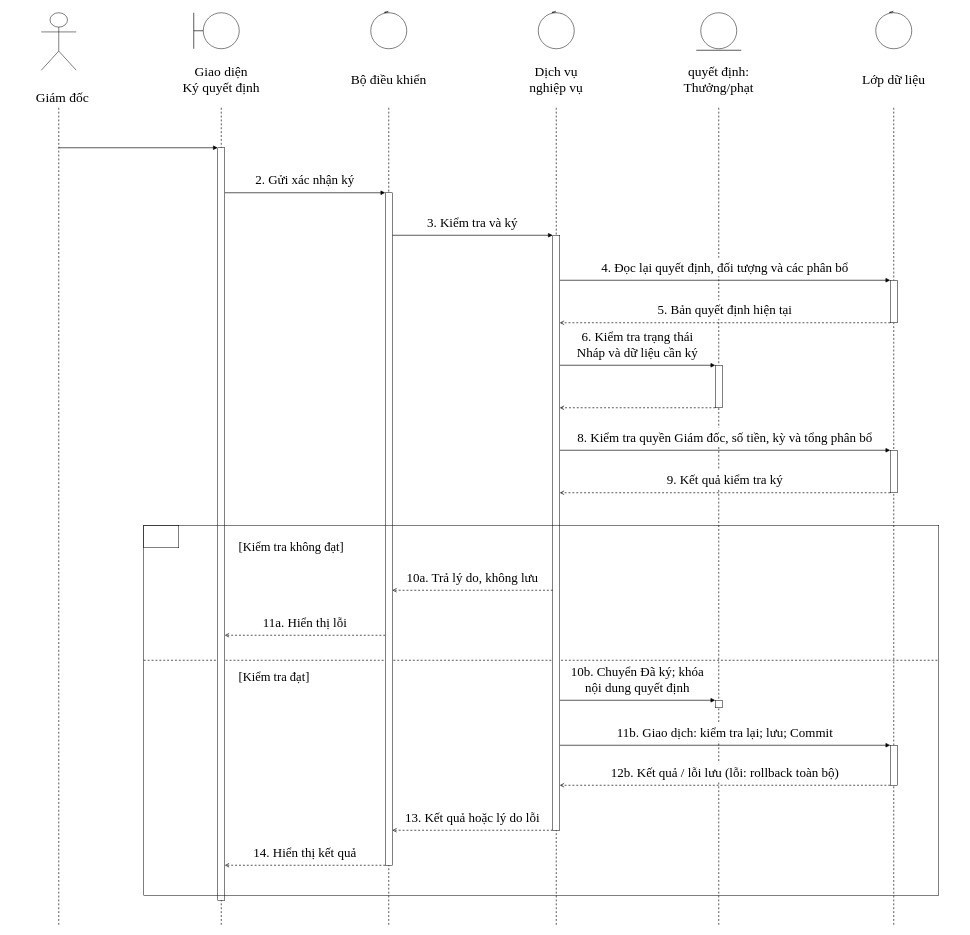
This 970x935 diagram has some shape labels left out. The box of each missing label's shape, as (x1, y1, x2, y2) in pixels:
1. Chọn quyết định Nháp và xác nhận ký: (64, 110, 212, 144)
7. Trạng thái hợp lệ: (564, 385, 710, 404)
alt: (143, 525, 179, 548)
